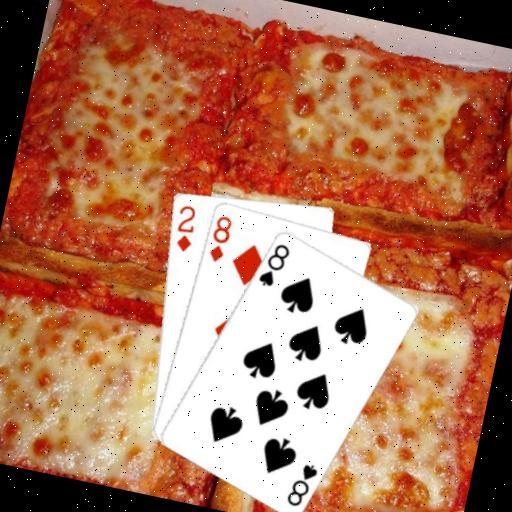2D: (167, 200, 200, 254)
8D: (203, 211, 235, 265)
8S: (254, 236, 293, 291), (282, 457, 321, 511)
